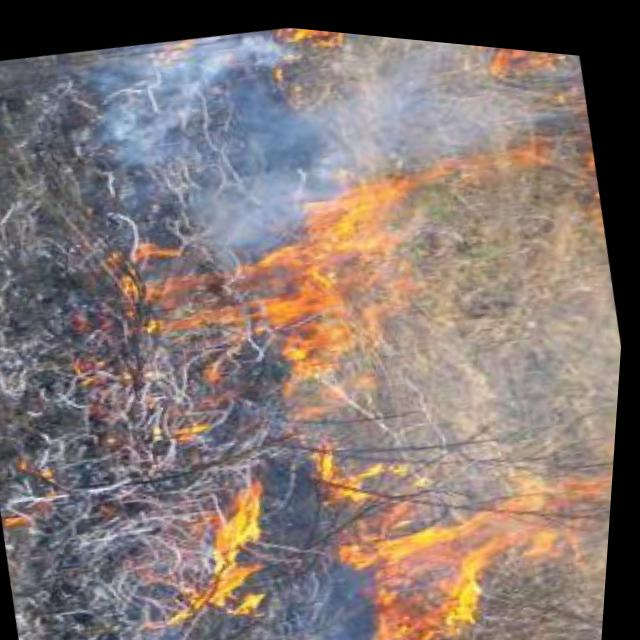Fire: (95, 8, 537, 297), (329, 430, 619, 640), (132, 221, 416, 411), (259, 119, 536, 277), (143, 466, 322, 640)
